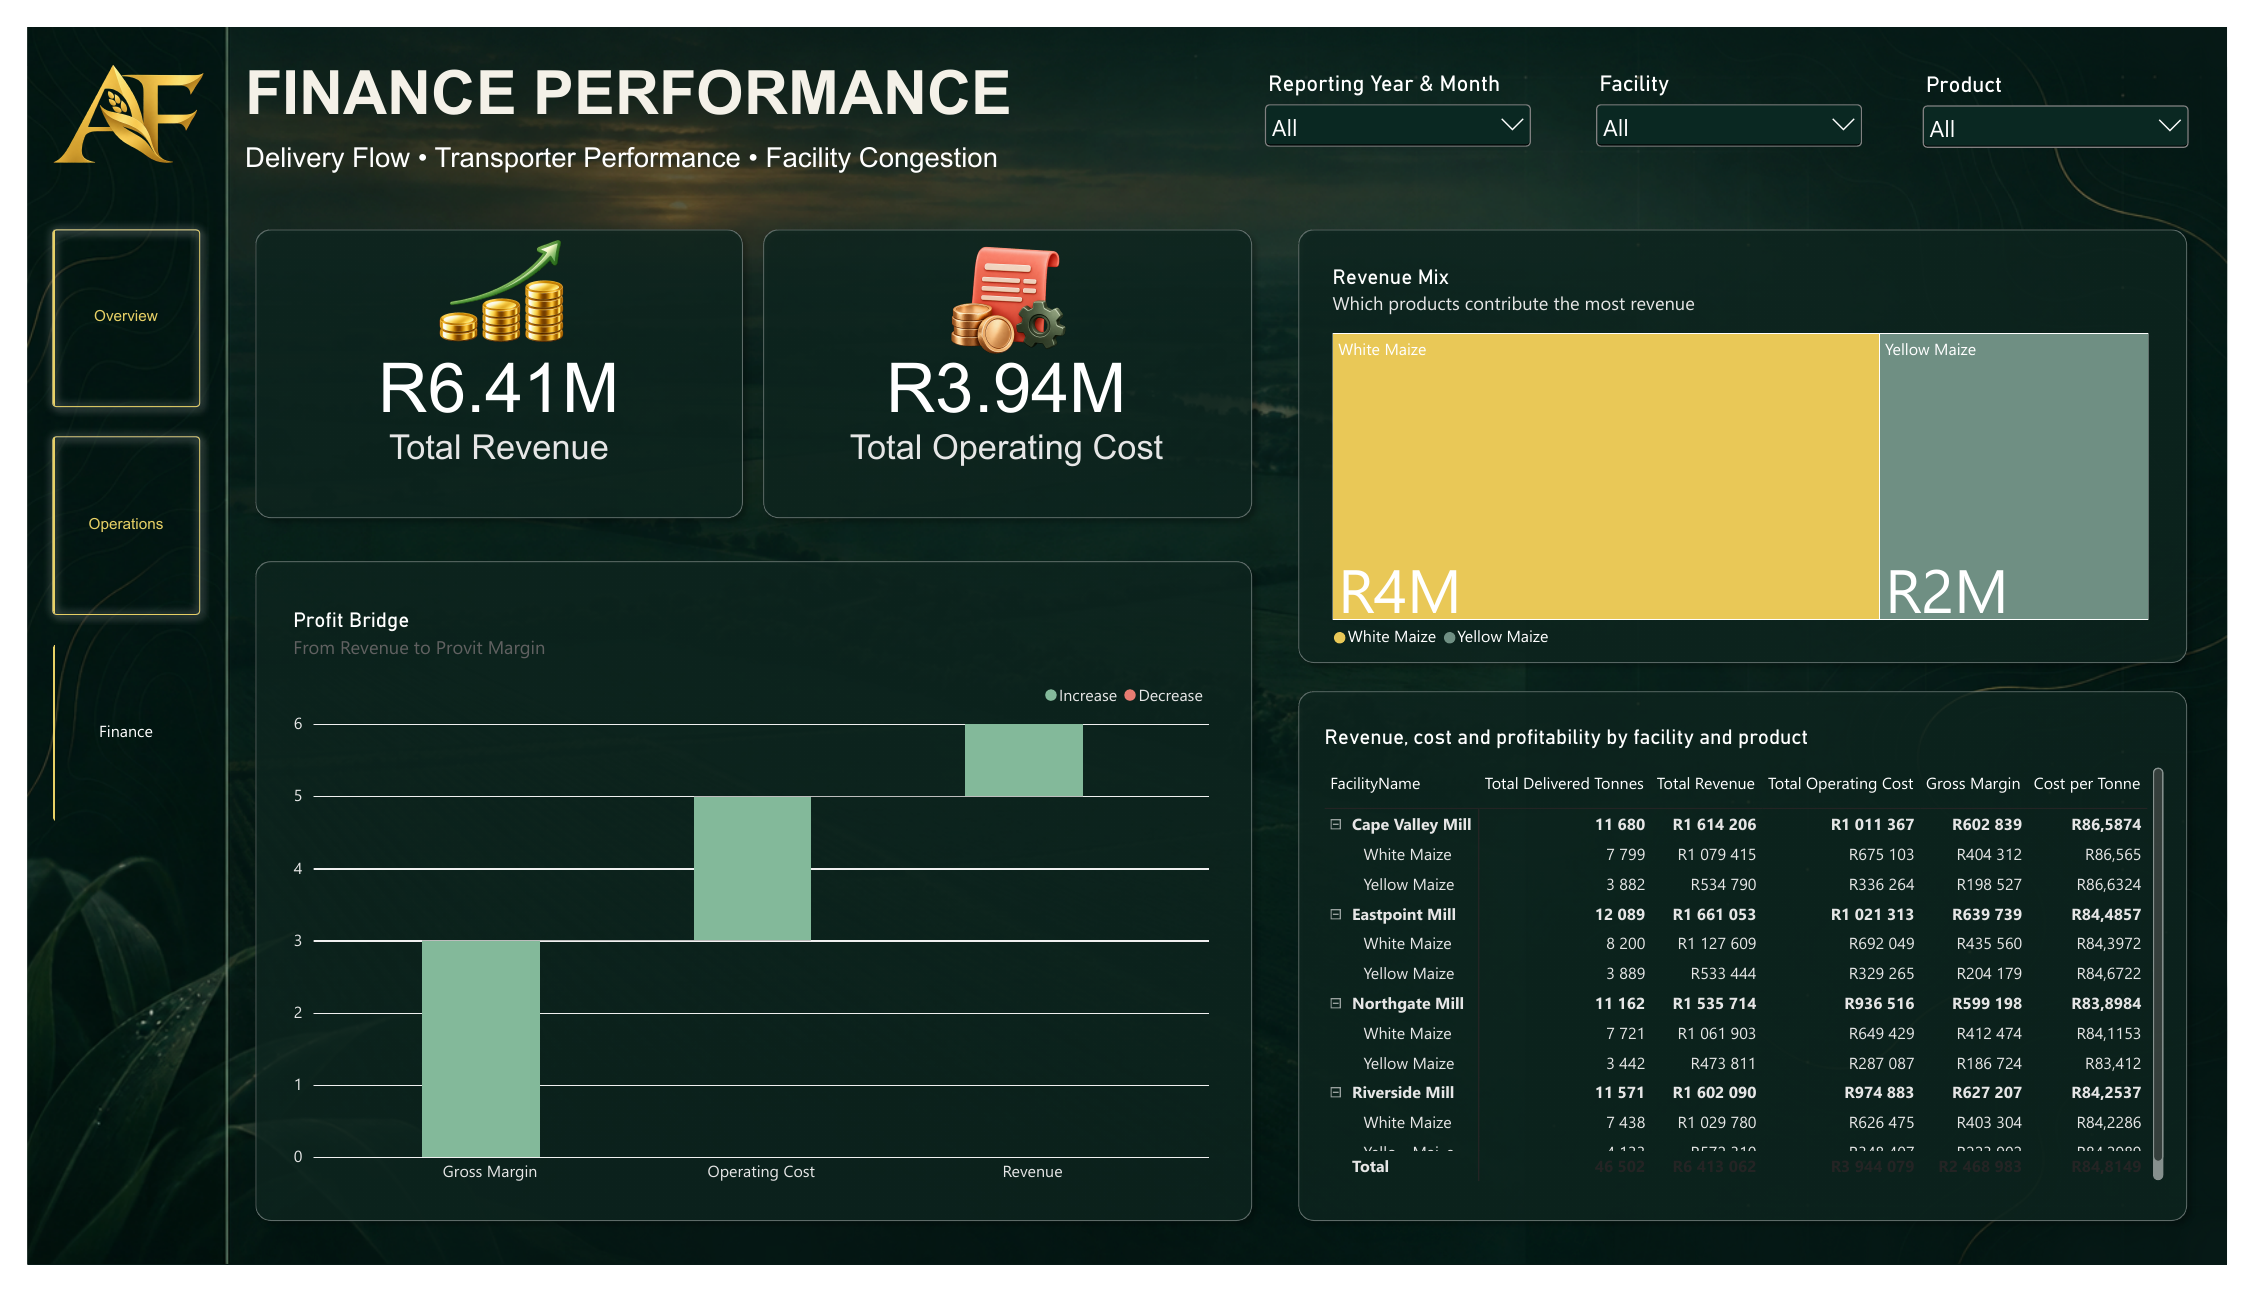

The dashboard page shown, as its layout file describes it:
{"tool":"powerbi","page":{"name":"Finance","canvas":[1920,1080],"ordinal":2},"visuals":[{"type":"shape","box":[190,456.7,886.7,593.3],"z":0,"group":"g2"},{"type":"textbox","box":[190,26.7,886.7,73.3],"z":1000},{"type":"textbox","box":[190,100,748.6,37.1],"z":2000},{"type":"pageNavigator","box":[13.3,166.7,146.7,536.7],"z":3000},{"type":"slicer","fields":{"Values":["DimFacility.FacilityName"]},"box":[1364.4,37.8,241.7,81.7],"z":4000},{"type":"slicer","fields":{"Values":["DimProduct.ProductName"]},"box":[1648.9,38.9,242.2,82.2],"z":5000},{"type":"image","box":[12.5,0,150,150],"z":6000},{"type":"shape","box":[190,166.7,443.3,270],"z":7000},{"type":"slicer","fields":{"Values":["DimDate.YearMonth"]},"box":[1075,38.3,241.7,81.7],"z":8000},{"type":"shape","box":[1100,570,793.3,480],"z":9000,"group":"g1"},{"type":"shape","box":[633.3,166.7,443.3,270],"z":10000},{"type":"shape","box":[1100,166.7,793.3,396.7],"z":11000},{"type":"LaconicCardFreeC4A74023FBD644529F9068B327CF4BF9","fields":{"mainMeasure":["Key Measures.Total Revenue"]},"box":[220,256.7,383.3,153.3],"z":12000},{"type":"LaconicCardFreeC4A74023FBD644529F9068B327CF4BF9","fields":{"mainMeasure":["Key Measures.Total Operating Cost"]},"box":[663.3,256.7,383.3,153.3],"z":13000},{"type":"waterfallChart","title":"Profit Bridge","fields":{"Category":["Profit Bridge Steps.Step"],"Y":["Sum(Profit Bridge Steps.SortOrder)"]},"box":[216.1,492.8,830.8,537.2],"z":14000,"group":"g2"},{"type":"treemap","title":"Revenue Mix","fields":{"Group":["DimProduct.ProductName"],"Values":["Key Measures.Total Revenue"]},"box":[1123.3,193.3,743.3,370],"z":15000},{"type":"pivotTable","title":"Revenue, cost and profitability by facility and product","fields":{"Rows":["DimFacility.FacilityName","DimProduct.ProductName"],"Values":["Key Measures.Total Delivered Tonnes","Key Measures.Total Revenue","Key Measures.Total Operating Cost","Key Measures.Gross Margin","Key Measures.Cost per Tonne"]},"box":[1116.3,595.1,764.1,426.7],"z":15001,"group":"g1"},{"type":"group","id":"g1","title":"Group 1","box":[1100,570,793.3,480],"z":15002},{"type":"group","id":"g2","title":"Group 2","box":[190,456.7,886.7,593.3],"z":15003},{"type":"image","box":[336.7,150,150,151.7],"z":15004},{"type":"image","box":[780,178.3,150,123.3],"z":15005}]}

Visuals, with their boxes in screenshot pixels (x1, y1, x2, y2), scaled from the page's 1920x1080 canvas onto the 2255x1293 screenshot:
shape: 223:547:1265:1257
textbox: 223:32:1265:120
textbox: 223:120:1102:164
pageNavigator: 16:200:188:842
slicer - DimFacility.FacilityName: 1602:45:1886:143
slicer - DimProduct.ProductName: 1937:47:2221:145
image: 15:0:191:180
shape: 223:200:744:523
slicer - DimDate.YearMonth: 1263:46:1546:144
shape: 1292:682:2224:1257
shape: 744:200:1264:523
shape: 1292:200:2224:675
LaconicCardFreeC4A74023FBD644529F9068B327CF4BF9 - Key Measures.Total Revenue: 258:307:709:491
LaconicCardFreeC4A74023FBD644529F9068B327CF4BF9 - Key Measures.Total Operating Cost: 779:307:1229:491
"Profit Bridge" waterfallChart: 254:590:1230:1233
"Revenue Mix" treemap: 1319:231:2192:674
"Revenue, cost and profitability by facility and product" pivotTable: 1311:712:2208:1223
"Group 1" group: 1292:682:2224:1257
"Group 2" group: 223:547:1265:1257
image: 395:180:572:361
image: 916:213:1092:361
